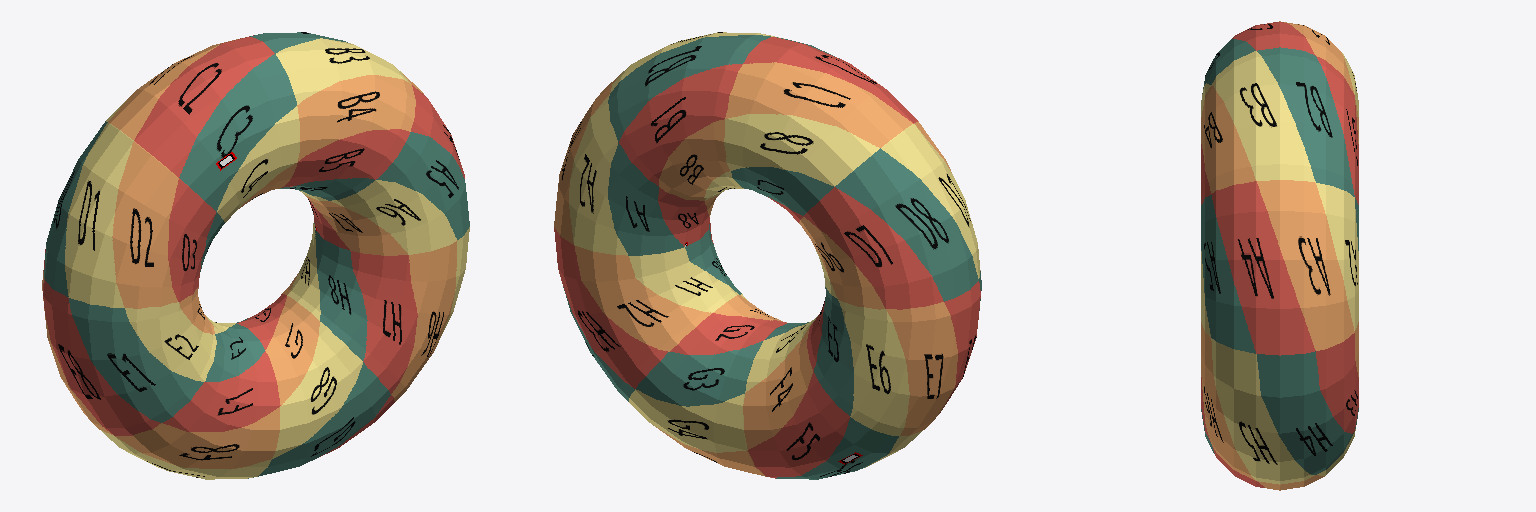
The picture shows the model from 3 angles: view 1: azimuth 30°, elevation 25°; view 2: azimuth 150°, elevation 25°; view 3: azimuth 270°, elevation 25°; orthographic projection.
Bounding box in the file's own units: 3 × 2.98 × 1.
1 materials, 1 textured.